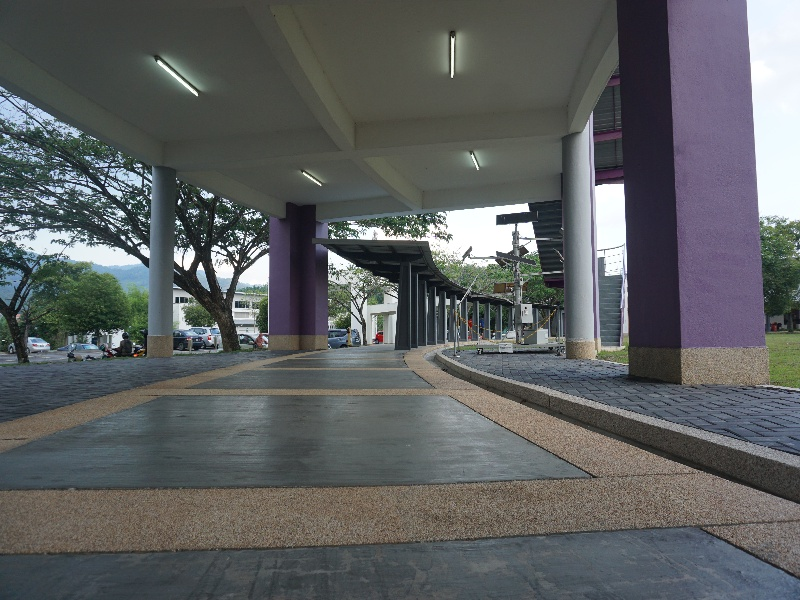Block D Pillar 4: (11, 10, 798, 455)
pillar: (605, 7, 778, 390), (551, 110, 611, 366), (259, 199, 336, 355), (139, 157, 187, 366), (392, 256, 417, 351)
